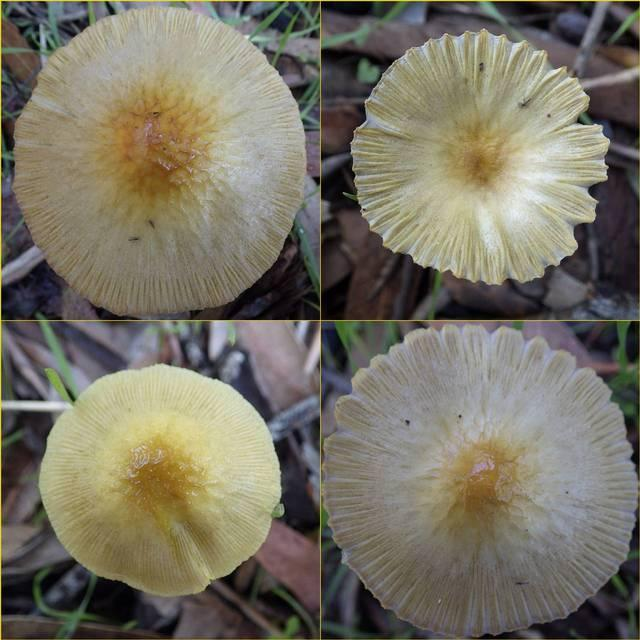Edible Mushroom: (321, 322, 638, 637), (11, 5, 307, 317), (348, 27, 610, 286), (37, 362, 283, 597)
